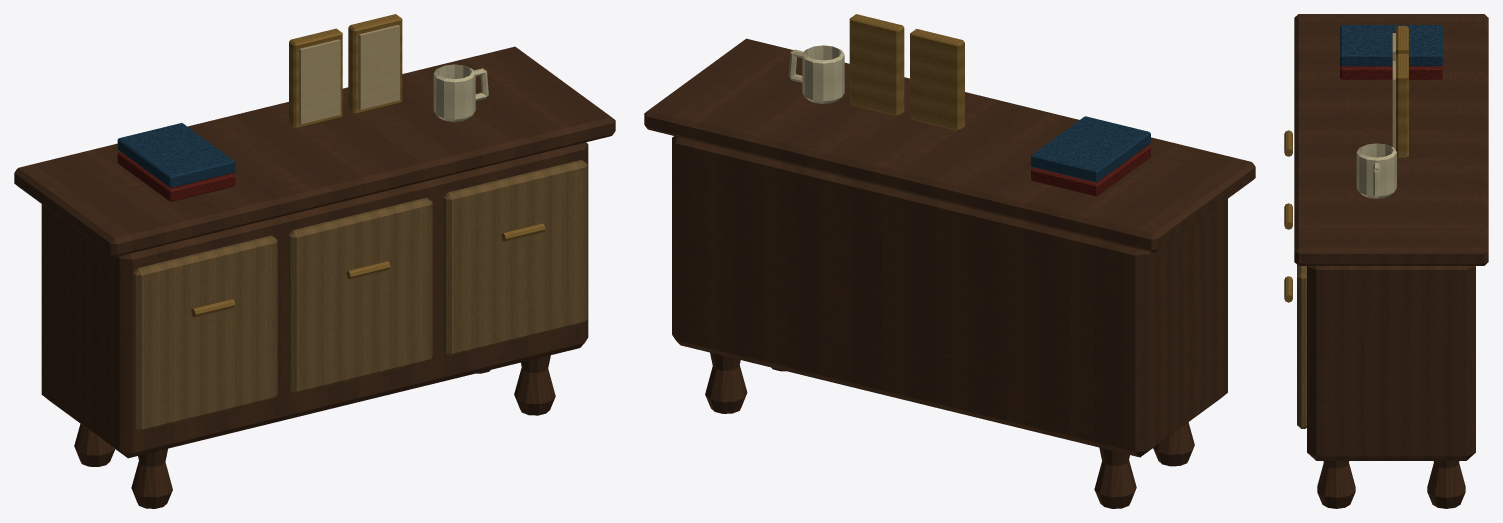
Rendered from level_lived_sideboard.glb.
The picture shows the model from 3 angles, left to right: view 1: azimuth 30°, elevation 25°; view 2: azimuth 150°, elevation 25°; view 3: azimuth 270°, elevation 25°; orthographic projection. The views are drawn at different scales.
Visible parts, largest first — view 1: level_lived_sideboard; view 2: level_lived_sideboard; view 3: level_lived_sideboard.
Part boxes in pixels (left/top/right/bottom): level_lived_sideboard: left=14, top=14, right=615, bottom=508; level_lived_sideboard: left=644, top=14, right=1255, bottom=508; level_lived_sideboard: left=1284, top=14, right=1488, bottom=508.
Size of the model in its own units: 1.53 by 1.14 by 0.557.
Materials: 7 (7 with a texture image).
